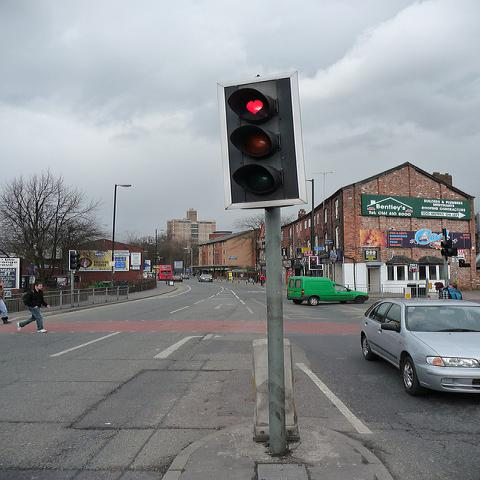bus: (159, 265, 172, 280)
car: (358, 296, 479, 397), (198, 274, 214, 282), (168, 276, 183, 283), (182, 275, 190, 279)
truck: (287, 276, 369, 305)
